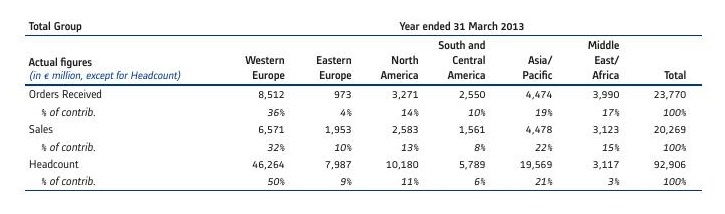table: (0, 0, 725, 214)
